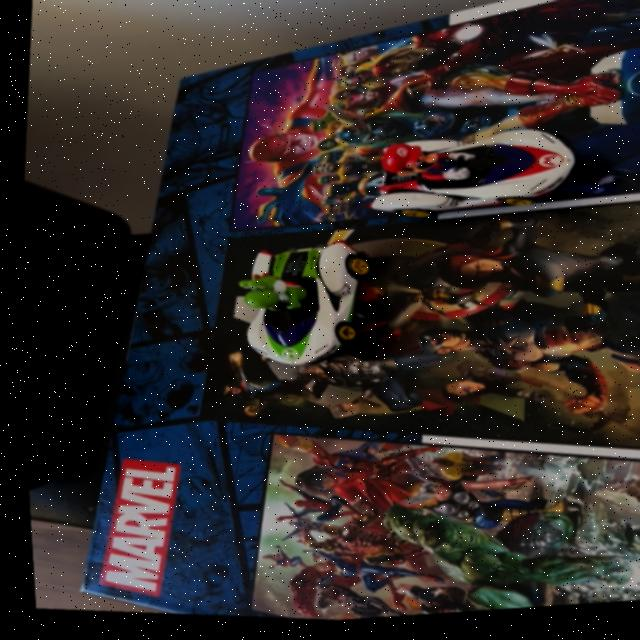mario: (344, 111, 593, 242)
yoshi: (208, 218, 392, 392)
